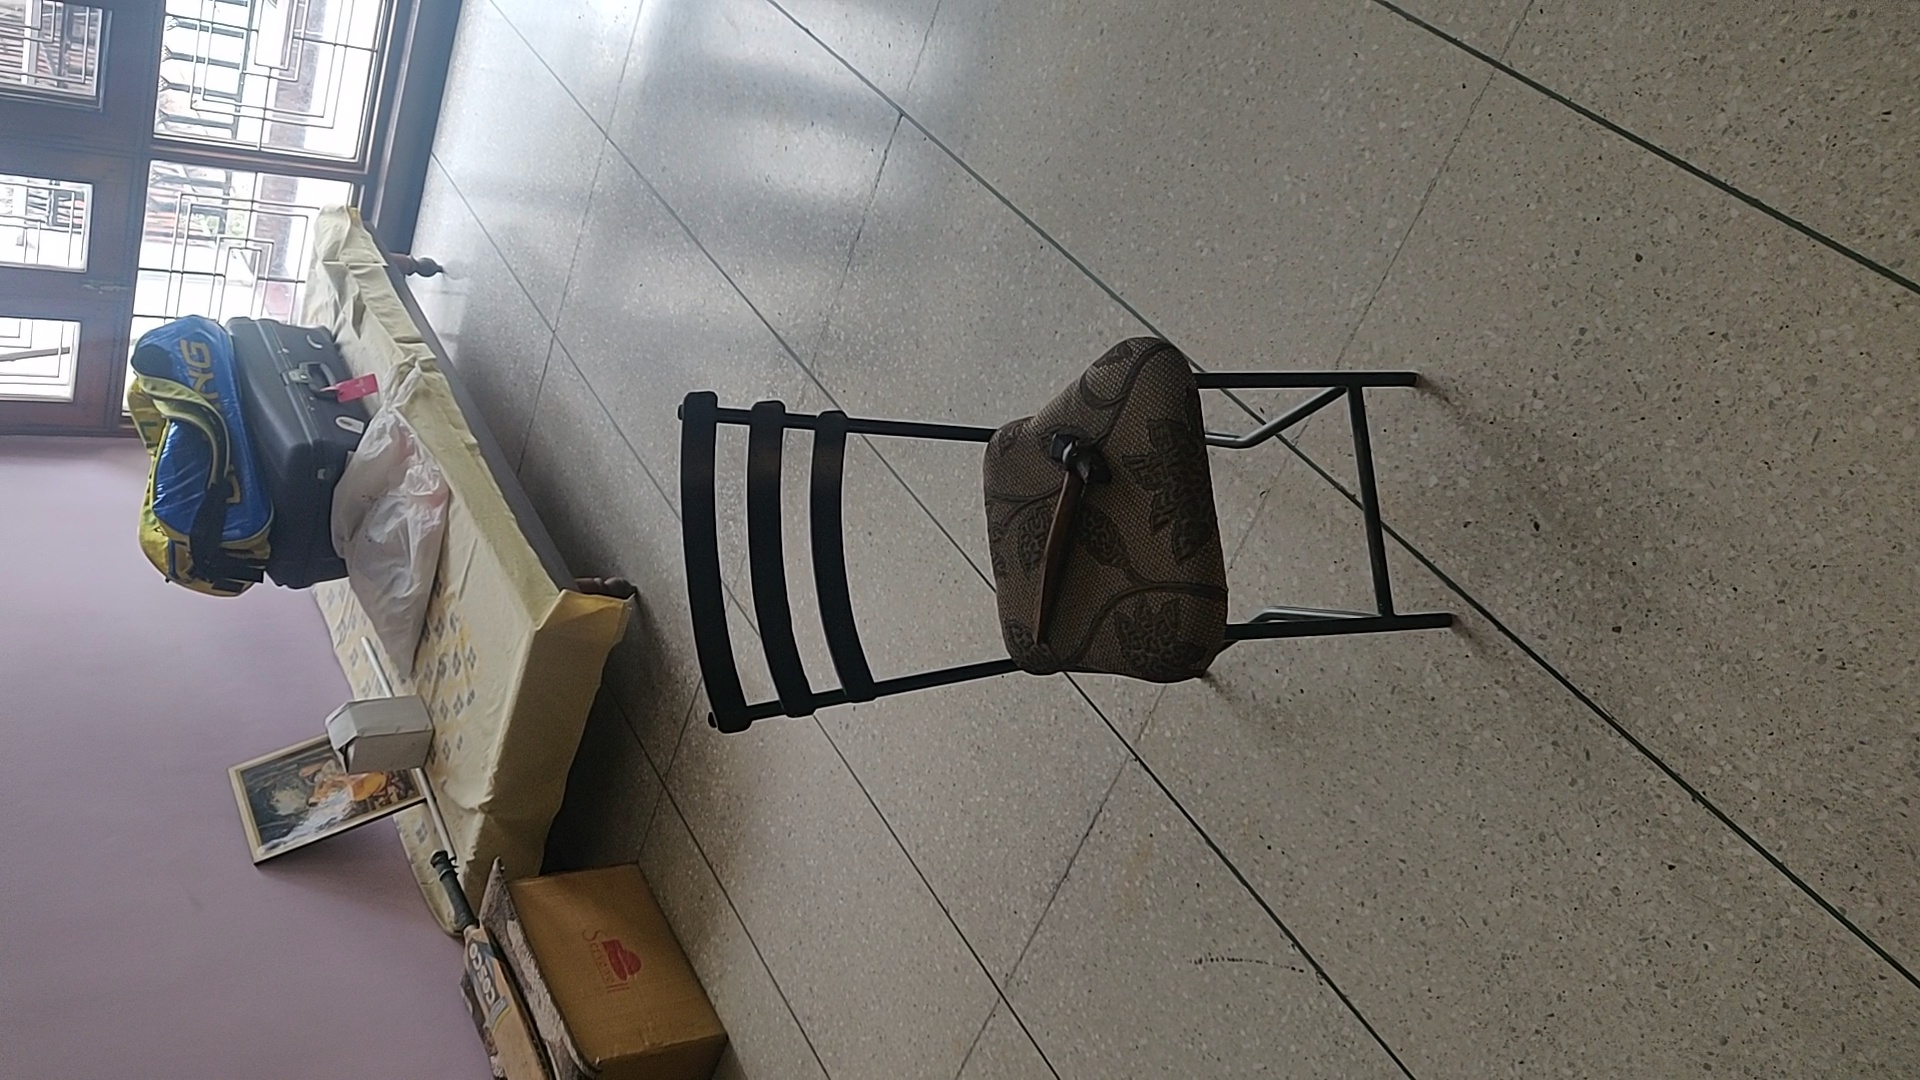hammer: (1029, 430, 1106, 649)
